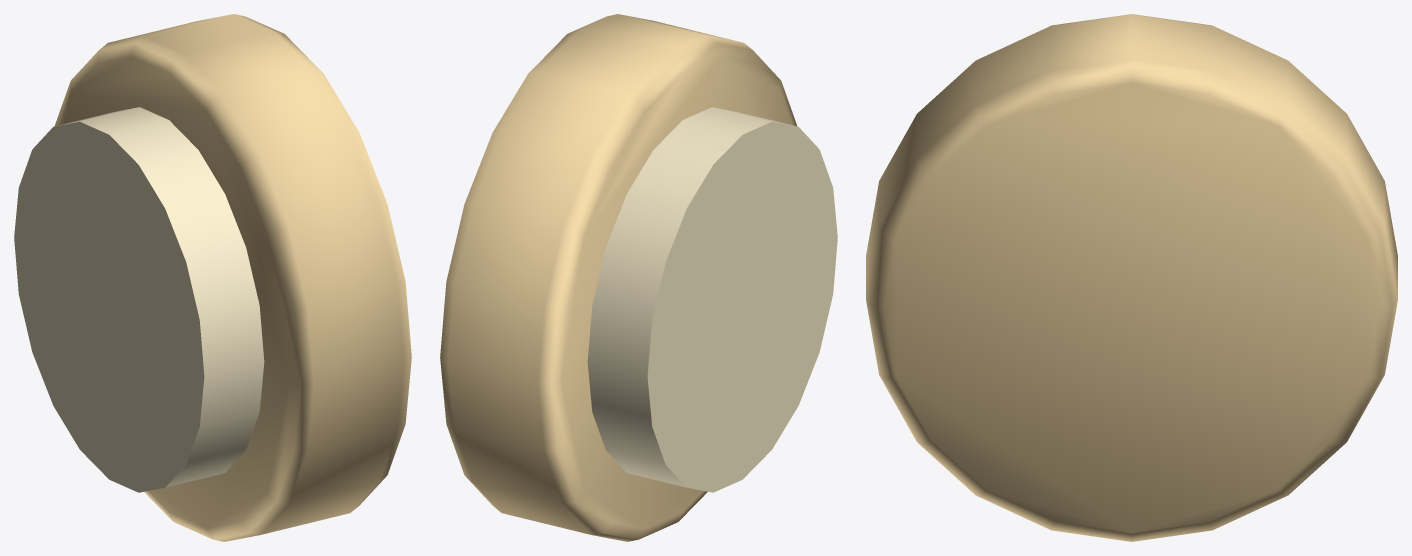
The model's file is mirror_button.glb.
3 views of the same model, side by side, from view 1: azimuth 30°, elevation 25°; view 2: azimuth 150°, elevation 25°; view 3: azimuth 270°, elevation 25° (orthographic). The views are drawn at different scales.
Visible parts, largest first — view 1: Button ring, Button cap; view 2: Button ring, Button cap; view 3: Button ring.
Boxes of the visible parts, x1,y1,x2,y2 form: Button ring: [55, 14, 411, 541]; Button cap: [14, 107, 264, 492]; Button ring: [440, 14, 796, 541]; Button cap: [587, 107, 837, 492]; Button ring: [866, 14, 1397, 541].
Size of the model in its own units: 0.024 by 0.06 by 0.06.
